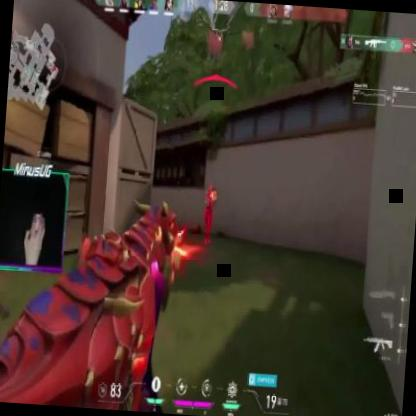enemy: (200, 183, 218, 244)
enemy_head: (208, 182, 214, 192)
